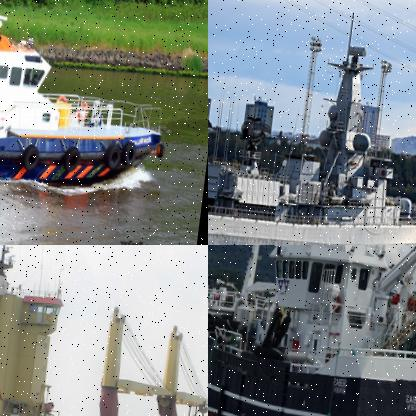Fishing Boat: (208, 245, 415, 415)
Merchant Ship: (0, 245, 207, 415)
Military Ship: (208, 0, 415, 244)
Patrol Boat: (0, 0, 189, 211)
